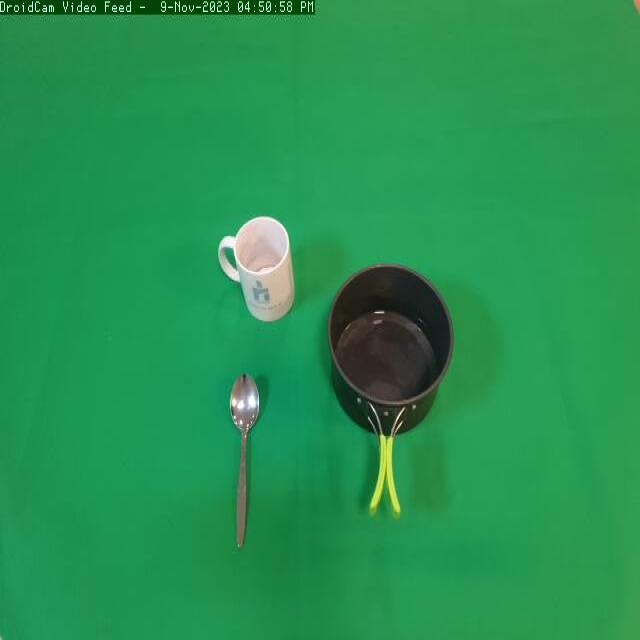cup: (215, 204, 303, 333)
pot: (318, 252, 459, 541)
spoon: (210, 370, 279, 562)
